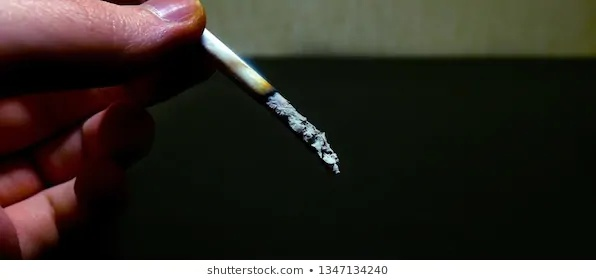sigaretta: (175, 12, 345, 175)
